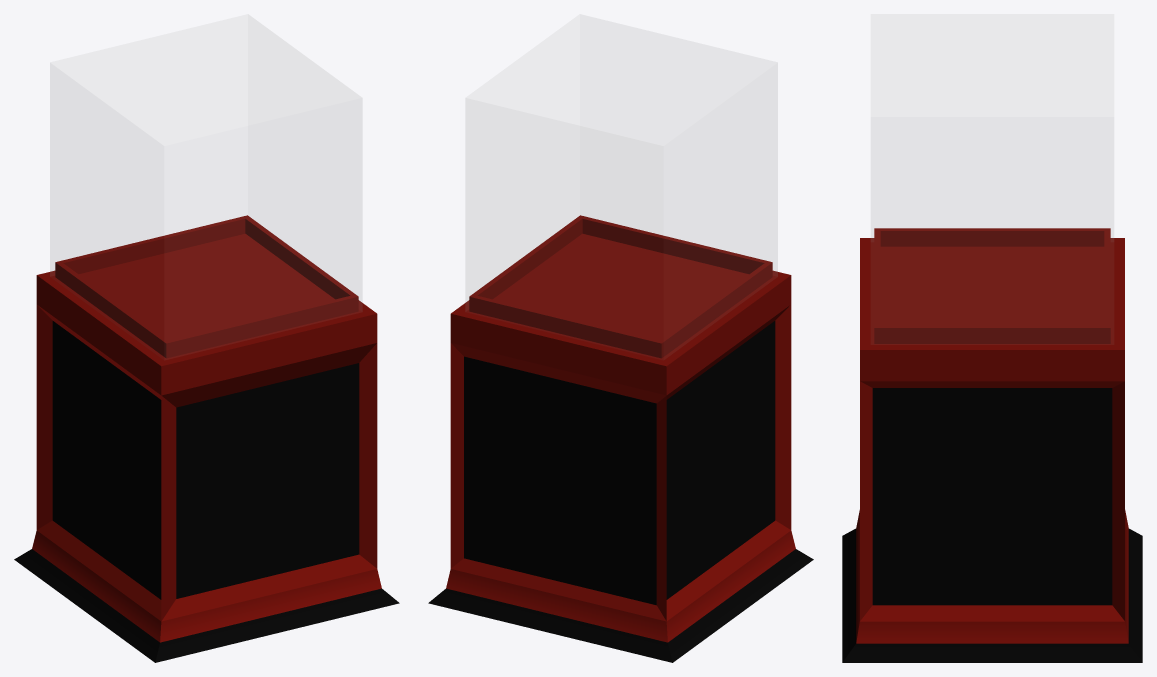
File: Expositor_Joias_pequeno.fbx
3 renders of one model, left to right at view 1: azimuth 30°, elevation 25°; view 2: azimuth 150°, elevation 25°; view 3: azimuth 270°, elevation 25°, orthographic. The views are drawn at different scales.
Parts seen in each view (by area): view 1: pCube1, pasted__pCube1; view 2: pCube1, pasted__pCube1; view 3: pCube1, pasted__pCube1.
Boxes of the visible parts, bbox=[...] form: pCube1: bbox=[14, 215, 399, 662]; pasted__pCube1: bbox=[50, 14, 361, 310]; pCube1: bbox=[428, 215, 813, 662]; pasted__pCube1: bbox=[466, 14, 777, 310]; pCube1: bbox=[842, 228, 1142, 662]; pasted__pCube1: bbox=[871, 14, 1113, 241].
Bounding box in the file's own units: 670 × 1312 × 670.
